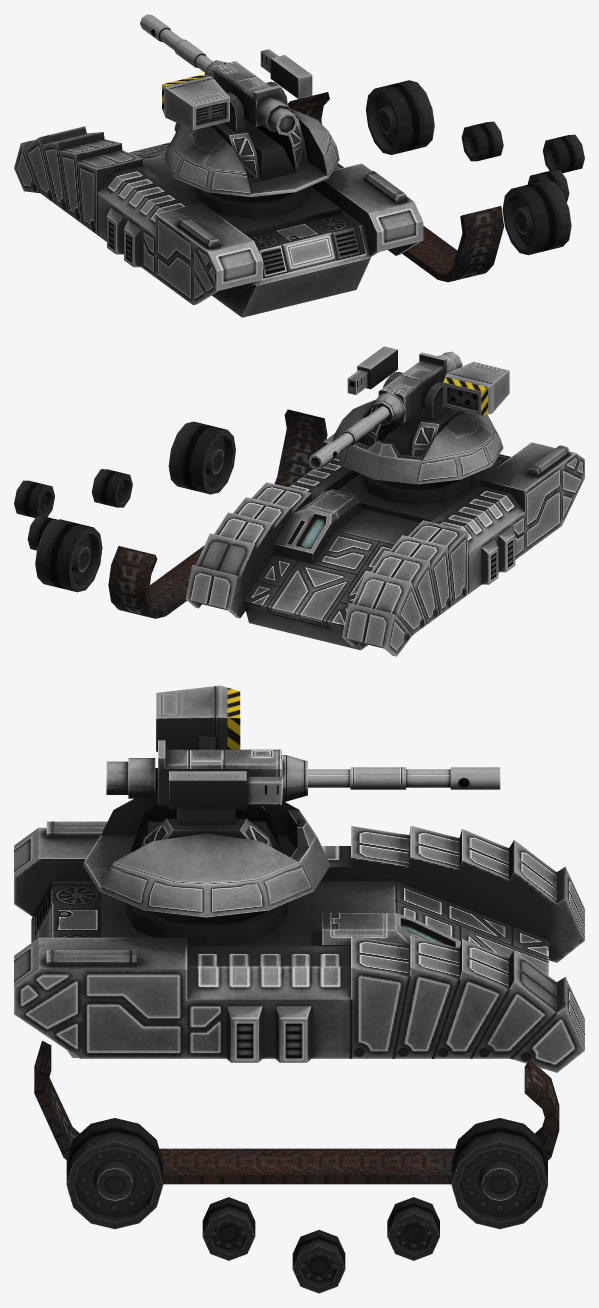
The model's file is Tiger_exp.FBX.
3 views of the same model, one above another, from view 1: azimuth 30°, elevation 25°; view 2: azimuth 150°, elevation 25°; view 3: azimuth 270°, elevation 25° (orthographic). The views are drawn at different scales.
Visible parts, largest first — view 1: body, turret, trackl, wheel09, wheel06, launcher_2, barrel_1, mantlet_1, mantlet_3, wheel10, wheel07, wheel08; view 2: body, turret, trackl, wheel09, wheel06, launcher_2, mantlet_1, barrel_1, mantlet_3, wheel08, wheel07, wheel10; view 3: body, turret, trackl, wheel09, wheel06, barrel_1, launcher_2, mantlet_1, mantlet_3, wheel07, wheel08, wheel10.
Part boxes in pixels (x1,y1,x2,y2): body: [14, 122, 423, 317]; turret: [163, 81, 339, 196]; trackl: [287, 92, 503, 282]; wheel09: [502, 180, 571, 255]; wheel06: [366, 80, 434, 154]; launcher_2: [162, 75, 229, 130]; barrel_1: [140, 14, 297, 135]; mantlet_1: [204, 60, 281, 126]; mantlet_3: [260, 49, 312, 98]; wheel10: [461, 121, 503, 161]; wheel07: [542, 134, 584, 173]; wheel08: [527, 170, 569, 202]; body: [185, 434, 584, 656]; turret: [333, 371, 503, 484]; trackl: [108, 409, 327, 618]; wheel09: [168, 421, 235, 494]; wheel06: [35, 519, 102, 592]; launcher_2: [443, 361, 509, 415]; mantlet_1: [371, 352, 446, 424]; barrel_1: [308, 351, 462, 469]; mantlet_3: [347, 346, 397, 394]; wheel08: [91, 469, 132, 507]; wheel07: [14, 480, 54, 517]; wheel10: [27, 516, 57, 550]; body: [14, 821, 584, 1072]; turret: [82, 788, 330, 917]; trackl: [34, 1040, 559, 1184]; wheel09: [66, 1118, 163, 1229]; wheel06: [451, 1118, 547, 1229]; barrel_1: [106, 758, 500, 798]; launcher_2: [156, 685, 240, 751]; mantlet_1: [158, 740, 307, 806]; mantlet_3: [169, 771, 281, 809]; wheel07: [292, 1230, 345, 1293]; wheel08: [202, 1197, 255, 1260]; wheel10: [387, 1197, 439, 1260].
Bounding box in the file's own units: 67.37 × 30.13 × 50.03.
1 material, 1 textured.
